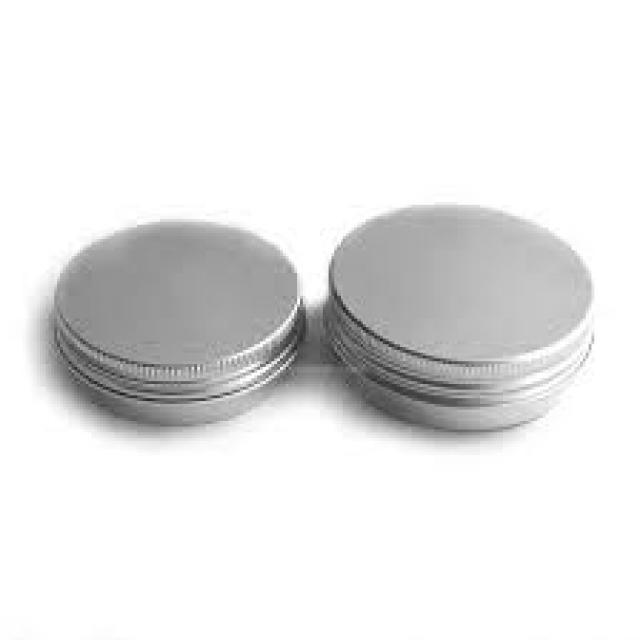recyclable: (328, 203, 594, 437), (51, 220, 306, 424)
